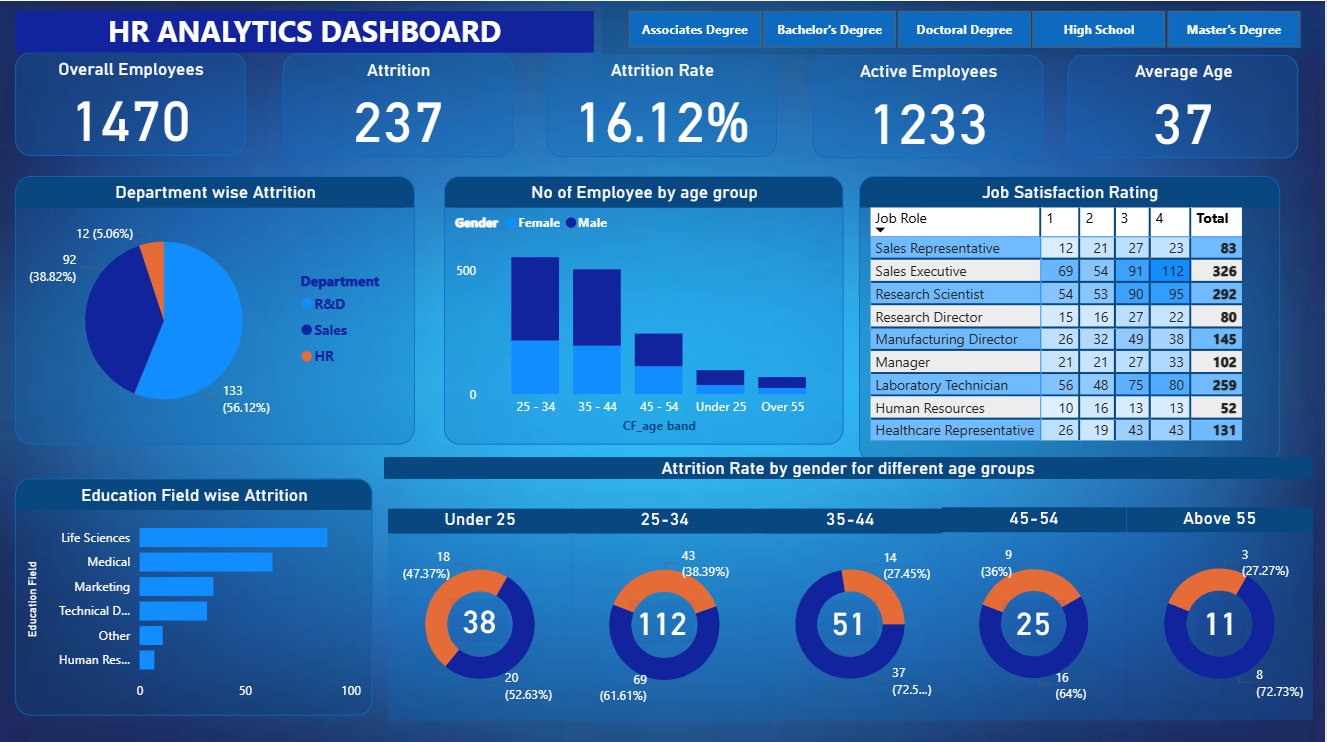

Layout of this report page (visuals, bound fields, positions):
{"tool":"powerbi","page":{"name":"Page 1","canvas":[1280,720],"ordinal":0},"visuals":[{"type":"card","title":"Overall Employees","fields":{"Values":["Sum(HR Data xlsx - HR data.Employee Count)"]},"box":[15.1,49.4,222.3,100.2],"z":0},{"type":"card","title":"Attrition","fields":{"Values":["Sum(HR Data xlsx - HR data.Attrition count)"]},"box":[274.4,50.8,222.3,100.2],"z":1000},{"type":"card","title":"Attrition Rate","fields":{"Values":["HR Data xlsx - HR data.Attrition Rate"]},"box":[528.3,50.8,222.3,100.2],"z":2000},{"type":"card","title":"Active Employees","fields":{"Values":["HR Data xlsx - HR data.Active Employess"]},"box":[784.9,52.1,222.3,100.2],"z":3000},{"type":"card","title":"Average Age","fields":{"Values":["Avg(HR Data xlsx - HR data.Age)"]},"box":[1031.9,52.1,222.3,100.2],"z":4000},{"type":"pieChart","title":"Department wise Attrition","fields":{"Category":["HR Data xlsx - HR data.Department"],"Y":["Sum(HR Data xlsx - HR data.Attrition count)"]},"box":[15.1,168.8,385.6,259.3],"z":5000},{"type":"columnChart","title":"No of Employee by age group","fields":{"Category":["HR Data xlsx - HR data.CF_age band"],"Y":["Sum(HR Data xlsx - HR data.Employee Count)"],"Series":["HR Data xlsx - HR data.Gender"]},"box":[429.5,168.8,385.6,259.3],"z":6000},{"type":"pivotTable","title":"Job Satisfaction Rating","fields":{"Rows":["HR Data xlsx - HR data.Job Role"],"Columns":["HR Data xlsx - HR data.Job Satisfaction"],"Values":["Sum(HR Data xlsx - HR data.Employee Count)"]},"box":[830.2,168.8,406.2,275.8],"z":7000},{"type":"barChart","title":"Education Field wise Attrition","fields":{"Category":["HR Data xlsx - HR data.Education Field"],"Y":["Sum(HR Data xlsx - HR data.Attrition count)"]},"box":[15.1,461.1,344.4,229.2],"z":8000},{"type":"donutChart","title":"Under 25","fields":{"Category":["HR Data xlsx - HR data.Gender"],"Y":["Sum(HR Data xlsx - HR data.Attrition count)"],"Series":["HR Data xlsx - HR data.CF_age band"]},"box":[374.6,489.9,178.4,204.5],"z":9000},{"type":"textbox","title":"Attrition Rate by gender for different age groups","box":[371.9,440.5,896.1,20.6],"z":10000},{"type":"donutChart","title":"25-34","fields":{"Category":["HR Data xlsx - HR data.Gender"],"Y":["Sum(HR Data xlsx - HR data.Attrition count)"],"Series":["HR Data xlsx - HR data.CF_age band"]},"box":[553,489.9,179.8,205.8],"z":11000},{"type":"donutChart","title":"35-44","fields":{"Category":["HR Data xlsx - HR data.Gender"],"Y":["Sum(HR Data xlsx - HR data.Attrition count)"],"Series":["HR Data xlsx - HR data.CF_age band"]},"box":[732.8,489.9,178.4,204.5],"z":12000},{"type":"donutChart","title":"45-54","fields":{"Category":["HR Data xlsx - HR data.Gender"],"Y":["Sum(HR Data xlsx - HR data.Attrition count)"],"Series":["HR Data xlsx - HR data.CF_age band"]},"box":[909.8,488.5,178.4,205.8],"z":13000},{"type":"donutChart","title":"Above 55","fields":{"Category":["HR Data xlsx - HR data.Gender"],"Y":["Sum(HR Data xlsx - HR data.Attrition count)"],"Series":["HR Data xlsx - HR data.CF_age band"]},"box":[1088.2,488.5,179.8,205.8],"z":14000},{"type":"card","fields":{"Values":["Sum(HR Data xlsx - HR data.Attrition count)"]},"box":[435,576.3,56.3,42.5],"z":15000},{"type":"card","fields":{"Values":["Sum(HR Data xlsx - HR data.Attrition count)"]},"box":[607.9,577.7,63.1,42.5],"z":16000},{"type":"card","fields":{"Values":["Sum(HR Data xlsx - HR data.Attrition count)"]},"box":[791.8,577.7,56.3,42.5],"z":17000},{"type":"card","fields":{"Values":["Sum(HR Data xlsx - HR data.Attrition count)"]},"box":[967.4,577.7,61.7,42.5],"z":18000},{"type":"card","fields":{"Values":["Sum(HR Data xlsx - HR data.Attrition count)"]},"box":[1154,577.7,48,42.5],"z":19000},{"type":"textbox","title":"HR ANALYTICS DASHBOARD","box":[15.1,9.6,558.5,39.8],"z":20000},{"type":"slicer","fields":{"Values":["HR Data xlsx - HR data.Education"]},"box":[581.8,2.7,698.5,49.4],"z":21000}]}

Visuals, with their boxes in screenshot pixels (x1, y1, x2, y2), scaled from the page's 1280x720 canvas onto the 1327x742 screenshot:
"Overall Employees" card: detection(16, 51, 246, 154)
"Attrition" card: detection(284, 52, 515, 156)
"Attrition Rate" card: detection(548, 52, 778, 156)
"Active Employees" card: detection(814, 54, 1044, 157)
"Average Age" card: detection(1070, 54, 1300, 157)
"Department wise Attrition" pieChart: detection(16, 174, 415, 441)
"No of Employee by age group" columnChart: detection(445, 174, 845, 441)
"Job Satisfaction Rating" pivotTable: detection(861, 174, 1282, 458)
"Education Field wise Attrition" barChart: detection(16, 475, 373, 711)
"Under 25" donutChart: detection(388, 505, 573, 716)
"Attrition Rate by gender for different age groups" textbox: detection(386, 454, 1315, 475)
"25-34" donutChart: detection(573, 505, 760, 717)
"35-44" donutChart: detection(760, 505, 945, 716)
"45-54" donutChart: detection(943, 503, 1128, 716)
"Above 55" donutChart: detection(1128, 503, 1315, 716)
card - Sum(HR Data xlsx - HR data.Attrition count): detection(451, 594, 509, 638)
card - Sum(HR Data xlsx - HR data.Attrition count): detection(630, 595, 696, 639)
card - Sum(HR Data xlsx - HR data.Attrition count): detection(821, 595, 879, 639)
card - Sum(HR Data xlsx - HR data.Attrition count): detection(1003, 595, 1067, 639)
card - Sum(HR Data xlsx - HR data.Attrition count): detection(1196, 595, 1246, 639)
"HR ANALYTICS DASHBOARD" textbox: detection(16, 10, 595, 51)
slicer - HR Data xlsx - HR data.Education: detection(603, 3, 1326, 54)
